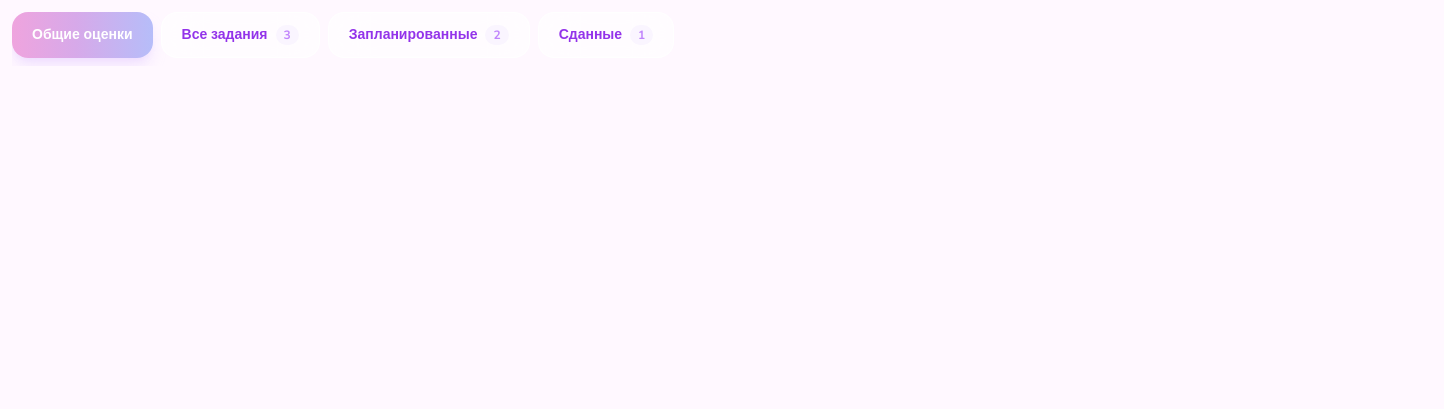
Scenario: DashboardGrades › shows an overall grades view and separates assignments by state and category
Click the tab "Все задания 3": click(240, 35) left=161, top=12, right=320, bottom=58
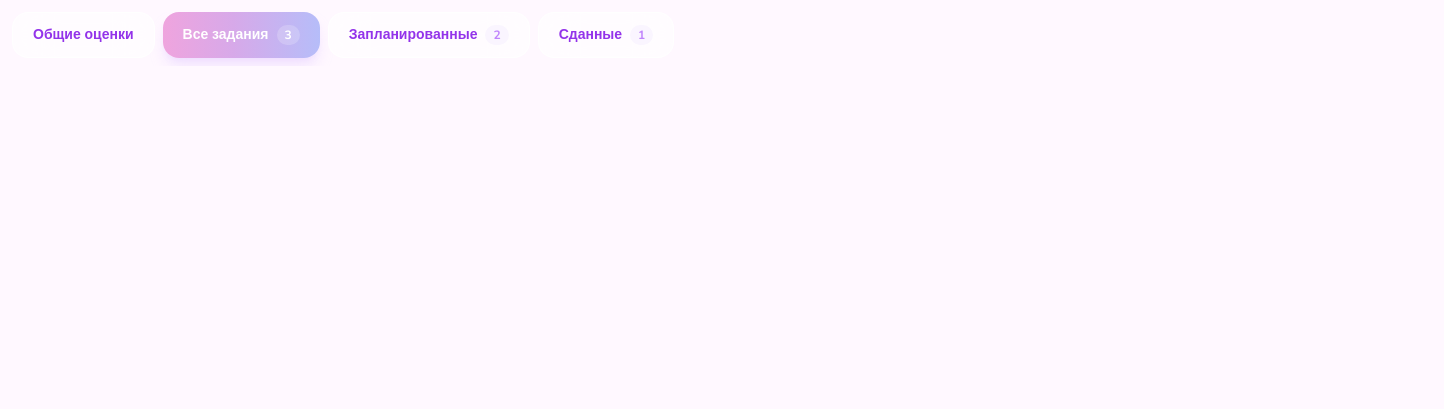
Click the tab "Запланированные 2": click(429, 35) left=328, top=12, right=530, bottom=58
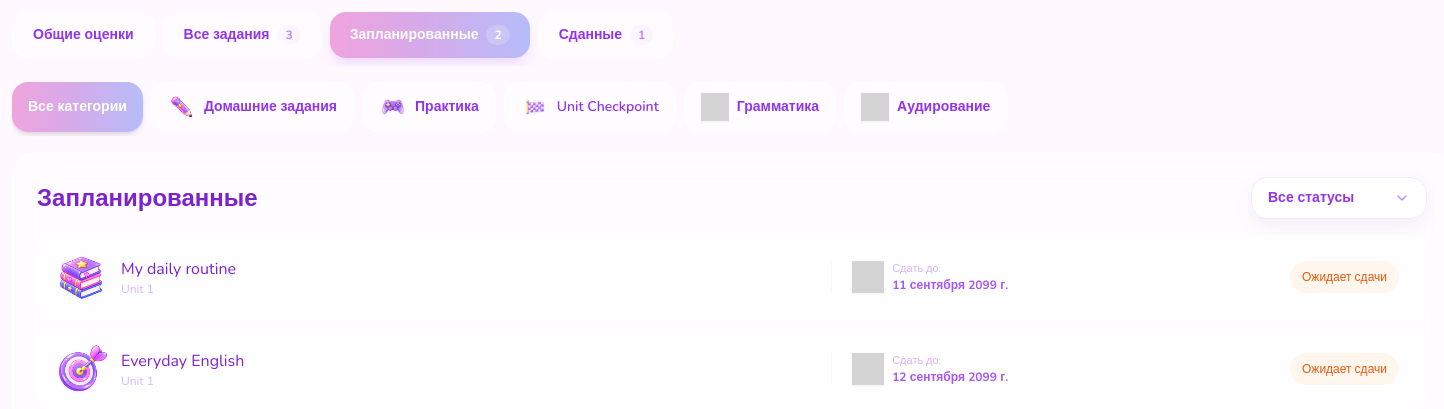
Now the text "My daily routine" is shown, box left=121, top=258, right=236, bottom=280
Click the button "Практика": click(429, 107) left=362, top=82, right=496, bottom=132
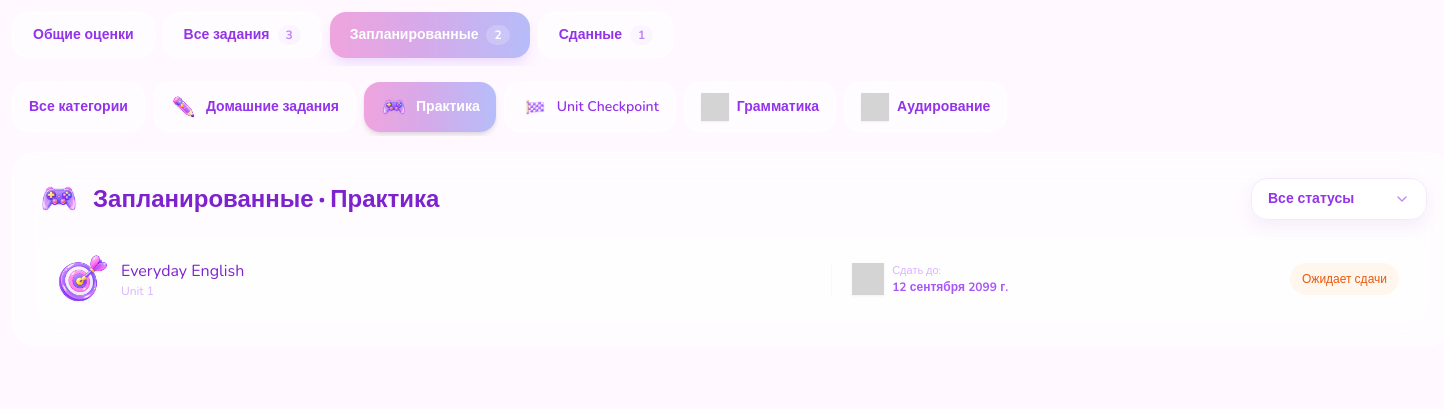
Now the text "Everyday English" is shown, box left=121, top=260, right=244, bottom=282
Now the button "My daily routine" is gone
